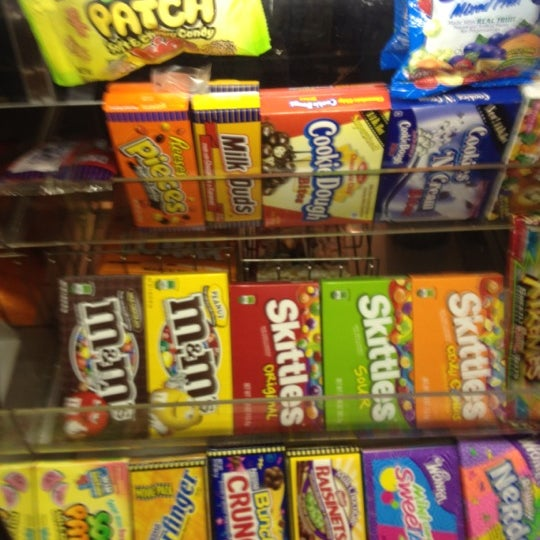Skittles: (322, 278, 418, 426)
